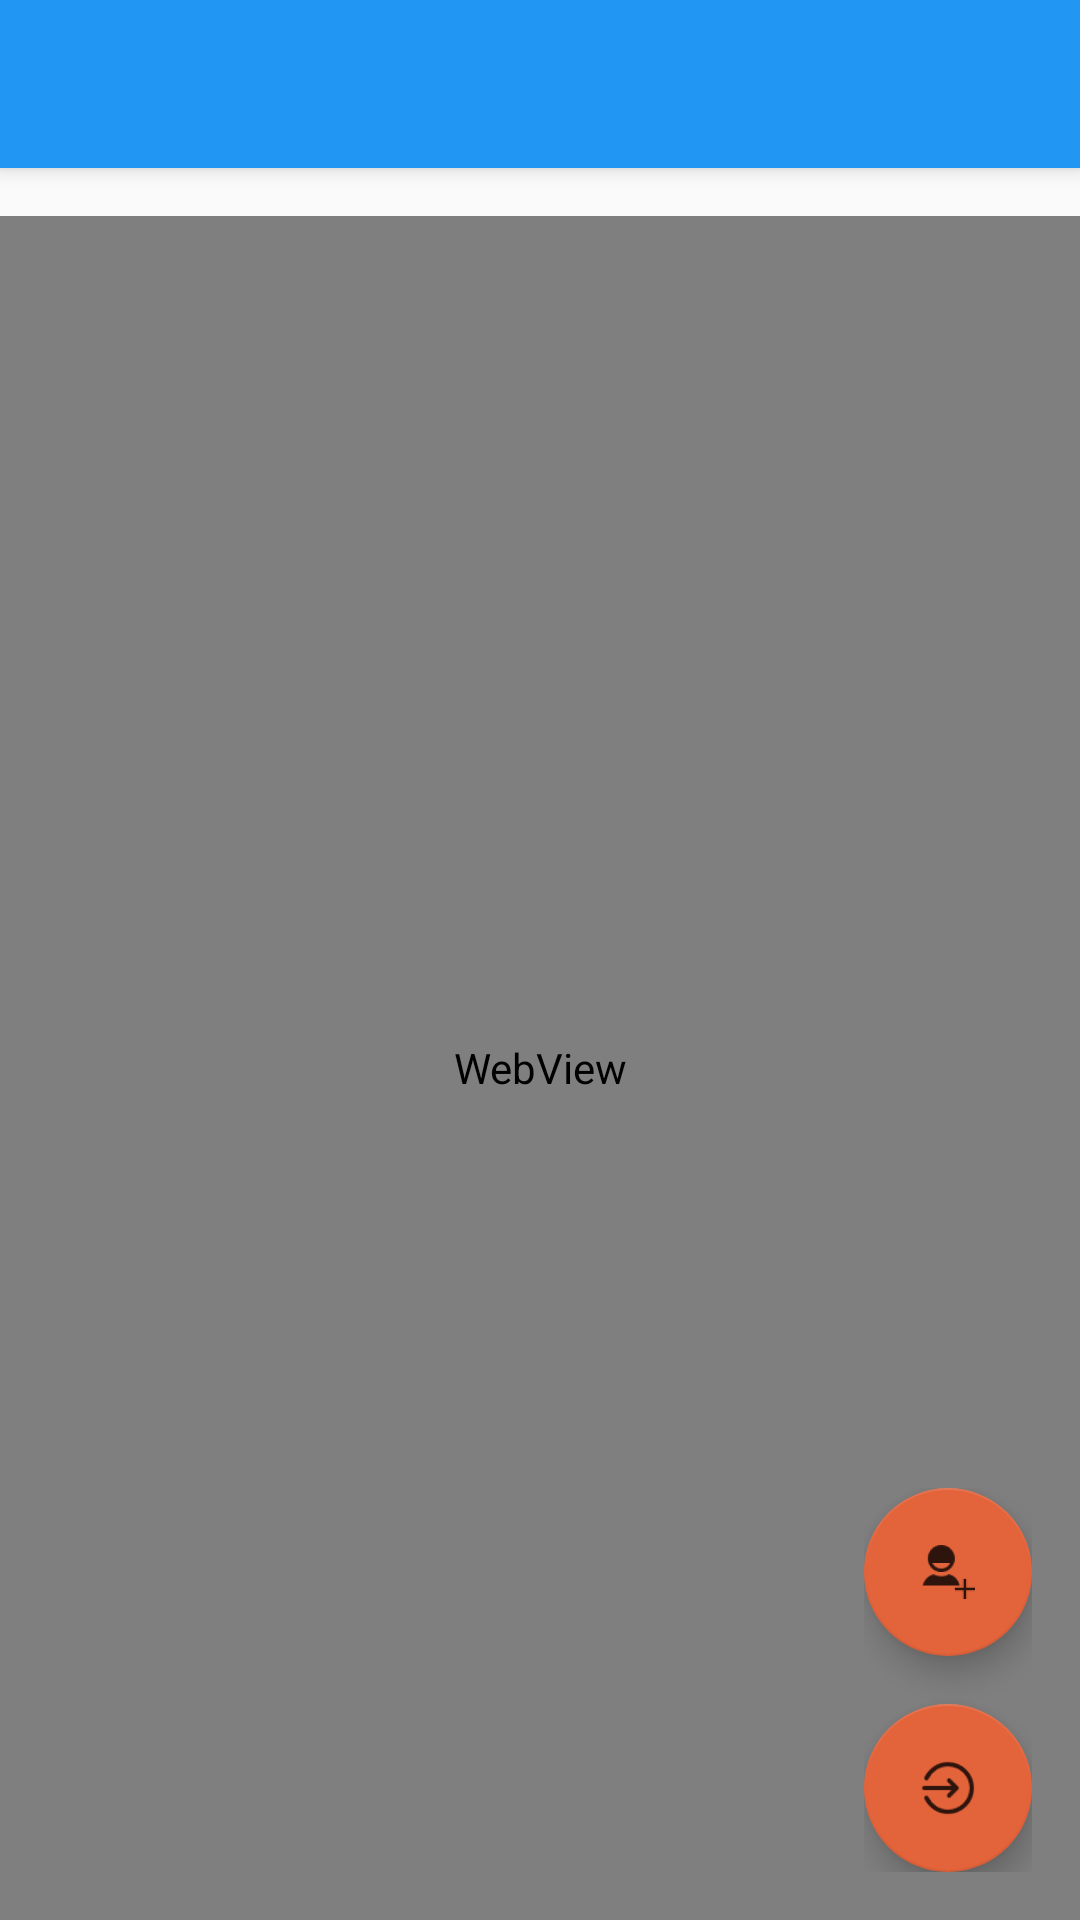

Icon click points for this 1080 × 1920 phone screenshot, format [x,y]:
login: [948,1788]
register: [948,1572]
